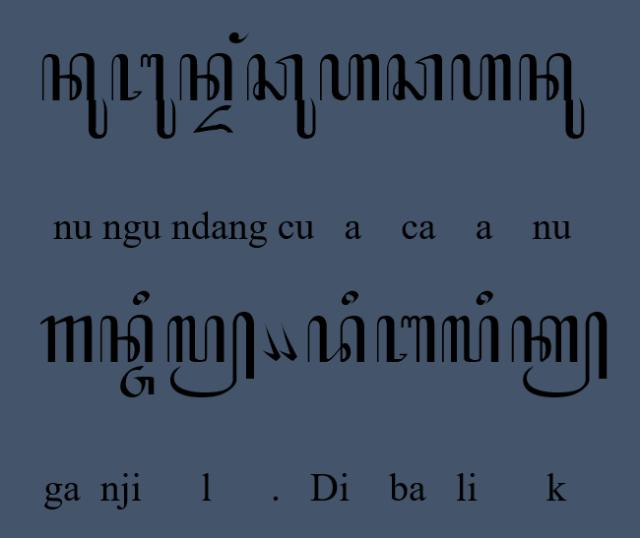-k: (508, 310, 610, 400)
-l: (165, 310, 259, 402)
_d: (190, 104, 236, 136)
_j: (119, 364, 155, 402)
b: (374, 312, 436, 366)
c: (384, 53, 446, 102)
cu: (246, 51, 318, 141)
d: (306, 315, 366, 366)
g: (38, 314, 94, 364)
h: (451, 51, 514, 103), (318, 52, 382, 102)
i: (339, 288, 361, 308), (131, 288, 151, 308), (474, 290, 494, 308)
kom: (260, 324, 282, 362), (278, 323, 298, 363)
l: (441, 315, 502, 365)
n: (179, 53, 235, 103), (98, 314, 154, 364)
ng: (227, 30, 250, 46)
ngu: (110, 52, 177, 142)
nu: (40, 52, 110, 142), (517, 51, 587, 141)
